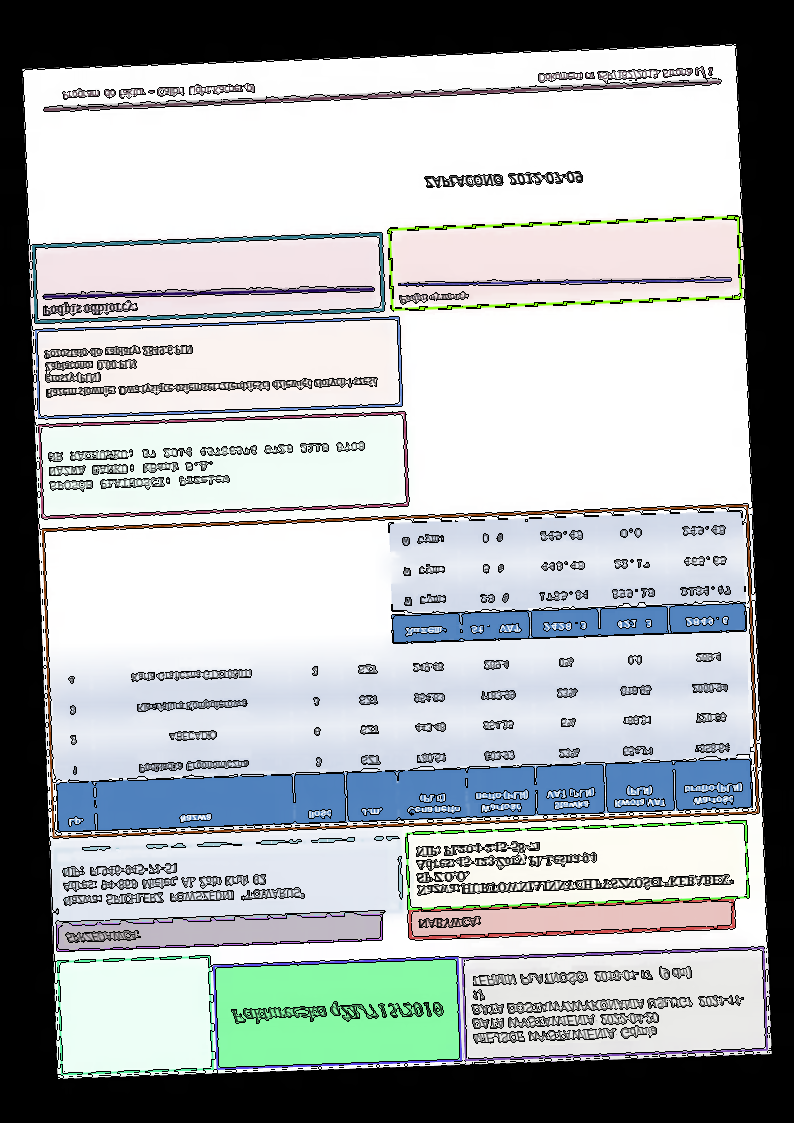Table: (50, 634, 752, 836), (387, 508, 748, 646)
TextBox: (469, 960, 747, 1047), (42, 335, 379, 402), (412, 833, 739, 899), (45, 437, 368, 495), (59, 854, 308, 912), (226, 997, 445, 1029), (59, 80, 256, 105), (537, 64, 716, 87), (422, 168, 586, 193), (39, 298, 139, 321), (396, 290, 472, 310), (63, 928, 140, 947), (415, 913, 481, 932)
